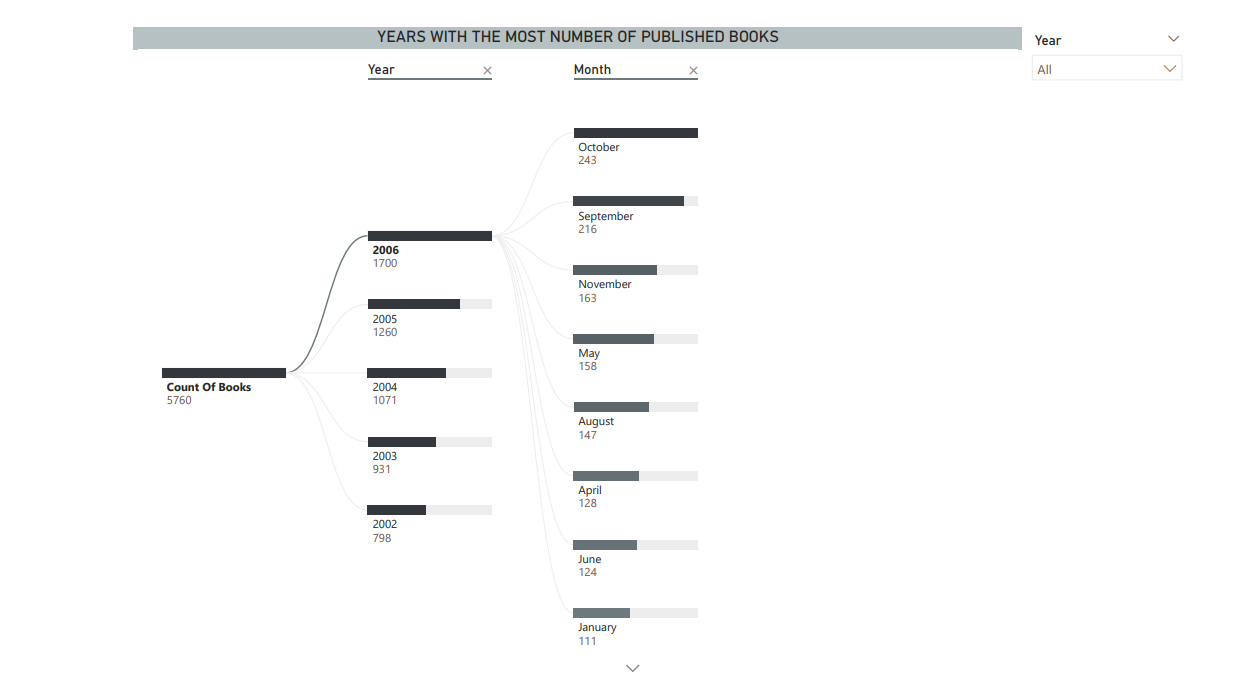

What the dashboard file says about the page in this screenshot:
{"tool":"powerbi","page":{"name":"Page 4","canvas":[1280,720],"ordinal":3},"visuals":[{"type":"decompositionTreeVisual","title":"YEARS WITH THE MOST NUMBER OF PUBLISHED BOOKS","fields":{"Analyze":["CountNonNull(Goodreads_books_with_genres.Title)"],"ExplainBy":["Goodreads_books_with_genres.publication_date.Variation.Date Hierarchy.Year","Goodreads_books_with_genres.publication_date.Variation.Date Hierarchy.Month"]},"box":[132.4,18,933,701.7],"z":0},{"type":"slicer","fields":{"Values":["Goodreads_books_with_genres.Year"]},"box":[1065.4,19.3,177.3,74.5],"z":1}]}

Visuals, with their boxes on the page's 1280x720 design canvas (x1, y1, x2, y2). These are canvas units, not pixel positions in the 1236x691 screenshot, which may show the page scaled, cropped or inside an application window:
"YEARS WITH THE MOST NUMBER OF PUBLISHED BOOKS" decompositionTreeVisual: box=[132, 18, 1065, 720]
slicer - Goodreads_books_with_genres.Year: box=[1065, 19, 1243, 94]
